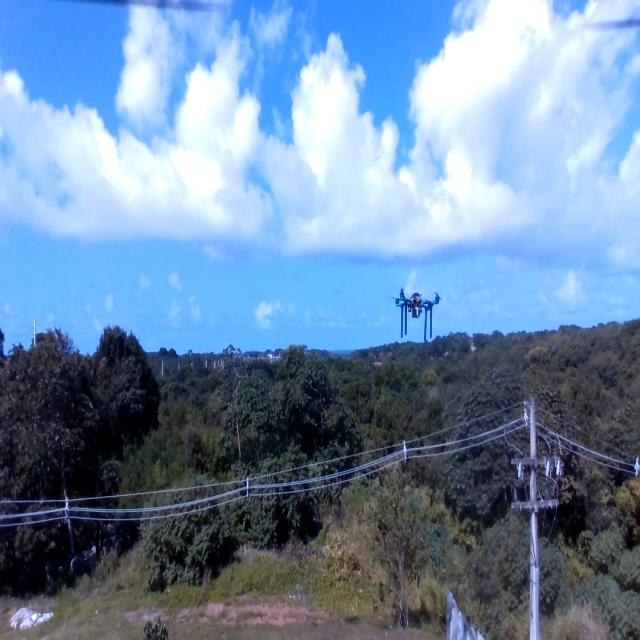-uav-: (383, 274, 445, 351)
